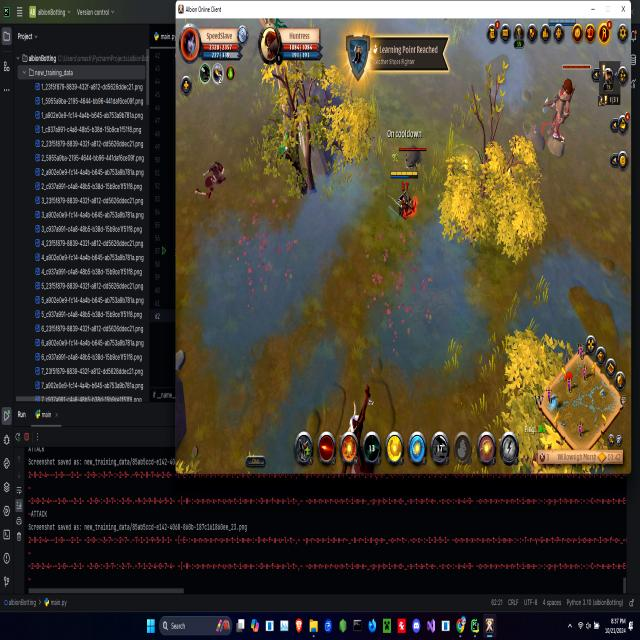ore: (540, 57, 594, 150), (397, 144, 426, 174)
red: (389, 170, 422, 225), (548, 19, 578, 28)
wisp caged: (255, 18, 297, 133)
